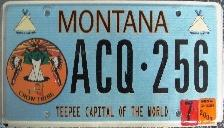2: (151, 38, 171, 95)
5: (173, 38, 190, 94)
6: (192, 38, 210, 94)
A: (68, 37, 93, 96)
C: (95, 37, 114, 96)
Q: (115, 36, 136, 96)
